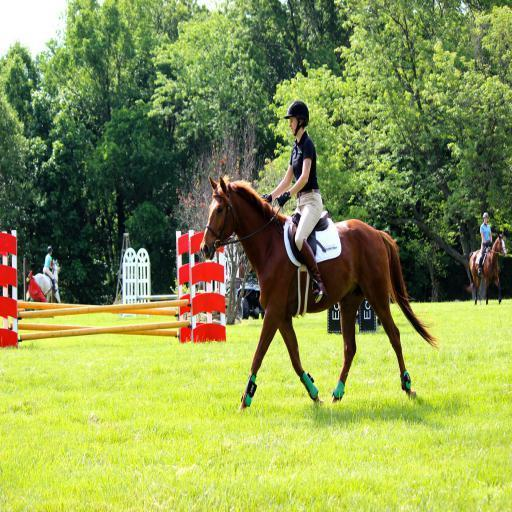horse: (201, 172, 442, 405), (466, 233, 508, 303), (27, 257, 62, 303)
